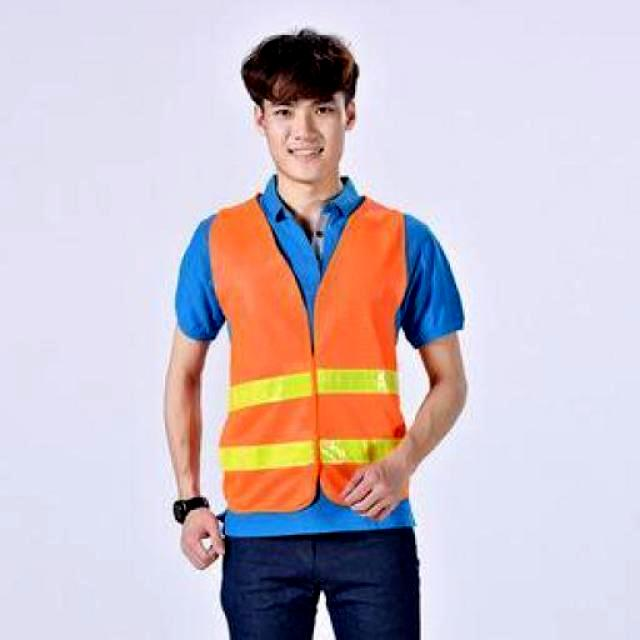no_head_wear: (229, 33, 369, 100)
person: (160, 32, 466, 640)
